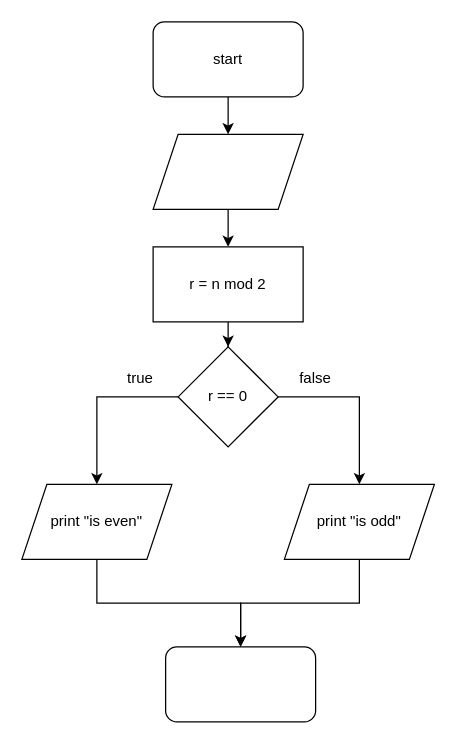
The diagram is 456 pixels wide and 744 high, and some of its shapes have lost their labels. Each missing label, with the centre of its shape:
"end" belongs at (240,684).
"input: n" belongs at (227,171).
